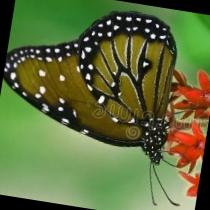butterfly: (3, 12, 176, 165)
